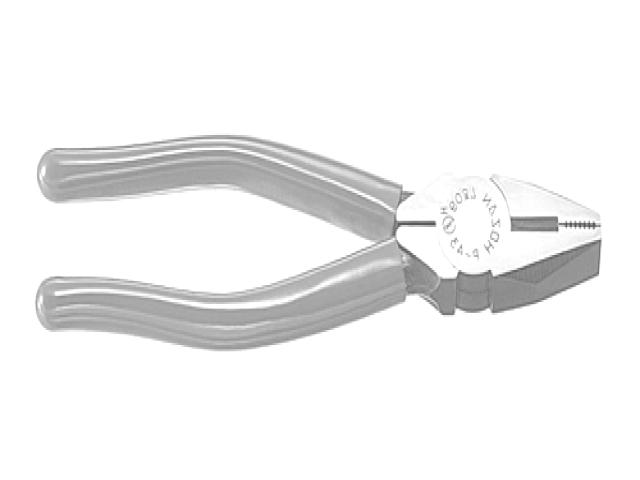Pliers: (36, 134, 601, 349)
